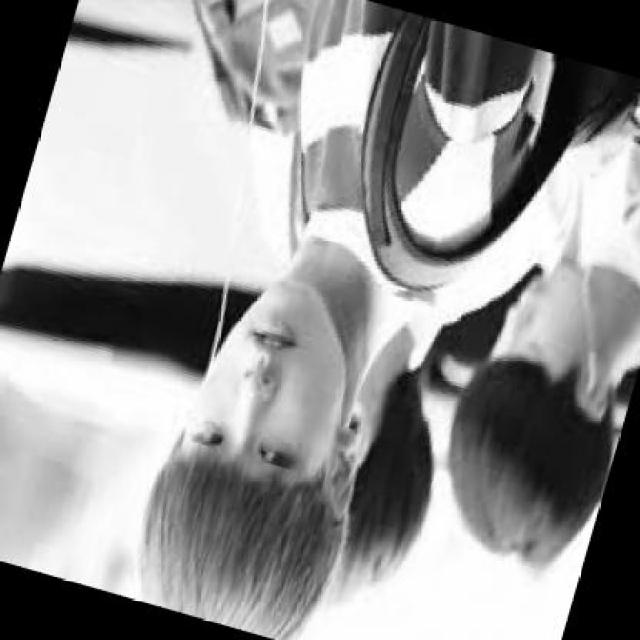earphone: (558, 316, 612, 412)
